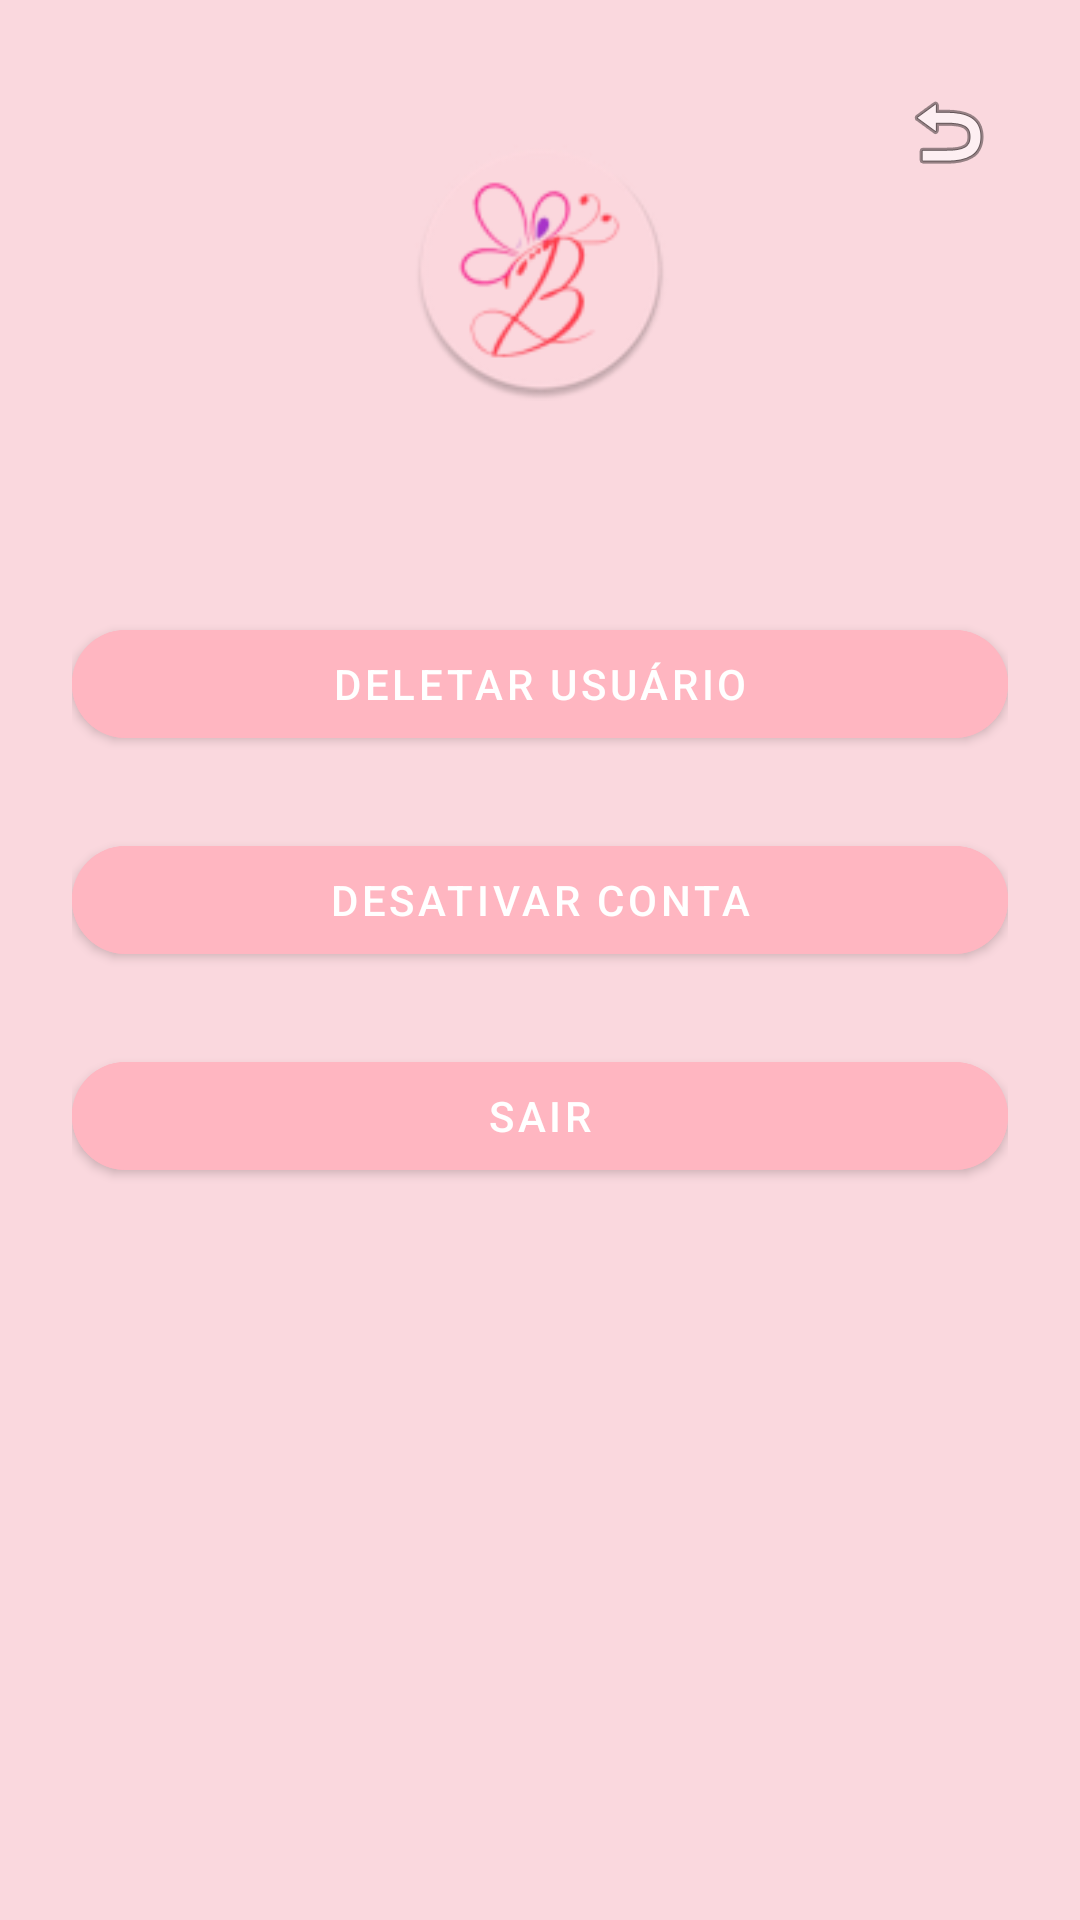

Icon click points for this 1080×1920 phone screenshot, format (x=x, y=y):
Voltar: (x=949, y=132)
